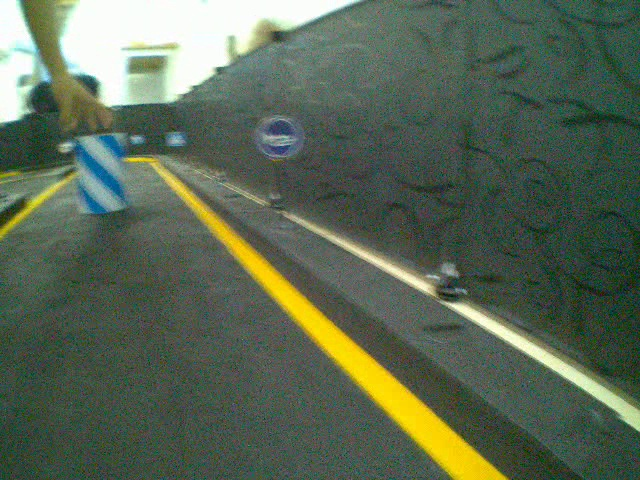bucket: (72, 130, 132, 216)
